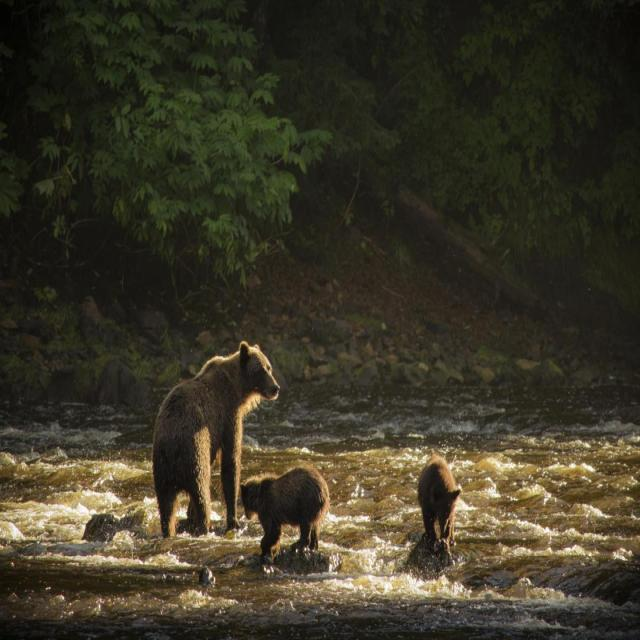Bear: (151, 342, 283, 538), (241, 469, 331, 575), (407, 457, 461, 582)
